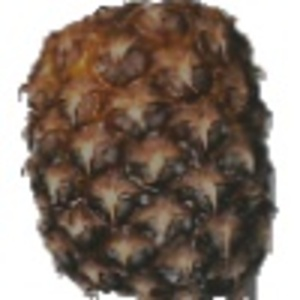abacaxi: (17, 1, 283, 297)
